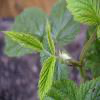Raspberry leaf: (0, 30, 43, 52), (66, 0, 100, 26), (37, 56, 56, 99)
